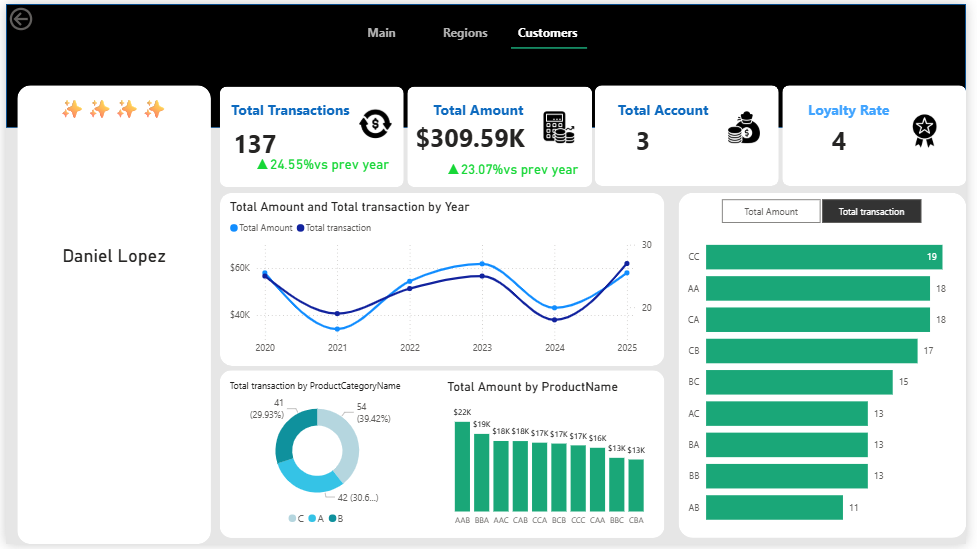

This screenshot's page, from the dashboard's own definition file:
{"tool":"powerbi","page":{"name":"Customers","canvas":[1280,720],"ordinal":2},"visuals":[{"type":"shape","box":[0,0,1280,165],"z":0},{"type":"shape","box":[534.5,109.6,246.7,134.2],"z":1000},{"type":"shape","box":[14.4,108.2,258.3,611.7],"z":2000},{"type":"shape","box":[285.2,109.6,245.3,134.2],"z":3000},{"type":"card","fields":{"Values":["Measure Table.total trnsaction"]},"box":[285.2,158.7,93.8,54.8],"z":4000},{"type":"textbox","box":[292.9,122.6,171.7,40.4],"z":5000},{"type":"image","box":[455.5,132.7,75,53.4],"z":6000},{"type":"card","fields":{"Values":["Measure Table.formatted tranYOY"]},"box":[314.1,194.8,216.4,39],"z":7000},{"type":"textbox","box":[537.4,122.5,186.6,41.7],"z":8000},{"type":"card","fields":{"Values":["Measure Table.total Amount"]},"box":[538.4,149.2,161.6,57.7],"z":9000},{"type":"image","box":[700,139.1,75,51.9],"z":10000},{"type":"card","fields":{"Values":["Measure Table.formatted AmoumtYOY"]},"box":[567.3,201.1,216.4,39],"z":11000},{"type":"shape","box":[785.2,108.2,245.3,134.2],"z":12000},{"type":"shape","box":[1034.5,108.2,245.3,134.2],"z":13000},{"type":"card","fields":{"Values":["Measure Table.total account"]},"box":[784.6,153.2,128.6,57.1],"z":14000},{"type":"textbox","box":[784.9,122.6,187.6,41.8],"z":15000},{"type":"image","box":[949.3,138.5,67.8,51.9],"z":16000},{"type":"actionButton","box":[0,0,100,40],"z":17000},{"type":"shape","box":[896,252.5,383.8,460.2],"z":18000},{"type":"shape","box":[285.7,252.5,593,230.8],"z":19000},{"type":"shape","box":[285.7,489.1,593,223.6],"z":20000},{"type":"lineChart","fields":{"Category":["calendar.Year"],"Y":["Measure Table.total Amount"],"Y2":["Measure Table.total trnsaction"]},"box":[292.9,259.7,572.8,216.4],"z":21000},{"type":"donutChart","fields":{"Category":["DimProductCategory.ProductCategoryName"],"Y":["Measure Table.total trnsaction"]},"box":[292.9,499.2,243.8,204.9],"z":22000},{"type":"columnChart","title":"Total Amount by ProductName","fields":{"Category":["Dimproduct.ProductName"],"Y":["Measure Table.total Amount"]},"box":[582.9,499.2,282.8,204.9],"z":23000},{"type":"barChart","fields":{"Y":["Measure Table.Total transaction"],"Category":["DimProductSubCategory.ProductSubCategoryName"]},"box":[901.4,291.4,372.9,418.6],"z":24000},{"type":"slicer","fields":{"Values":["Amount_ transaction .Amount_ transaction "]},"box":[928.6,252.9,315.7,45.7],"z":25000},{"type":"actionButton","box":[445.1,17.1,111.4,40],"z":26000},{"type":"actionButton","box":[556.6,17.1,111.4,40],"z":27000},{"type":"actionButton","box":[667,17,111.4,40],"z":28000},{"type":"shape","box":[672.9,50,101.4,17.1],"z":29000},{"type":"card","fields":{"Values":["Measure Table.rating selection"]},"box":[46.7,116.7,193.3,46.7],"z":30000},{"type":"card","fields":{"Values":["Measure Table.Fullname selection"]},"box":[31.4,312.5,225.6,47.1],"z":31000},{"type":"textbox","box":[1034.5,122.6,187.6,41.8],"z":32000},{"type":"card","fields":{"Values":["Measure Table.total rating gold"]},"box":[1046,152.9,128.4,57.7],"z":33000},{"type":"image","box":[1180.7,135.2,89.6,69.2],"z":34000},{"type":"cardVisual","fields":{"Data":["Measure Table.Total Amount"]},"box":[41.2,163.1,203.1,153.1],"z":35000}]}

Visuals, with their boxes in screenshot pixels (x1, y1, x2, y2), scaled from the page's 1280x720 canvas onto the 977x549 screenshot:
shape: region(0, 0, 976, 126)
shape: region(408, 84, 596, 186)
shape: region(11, 83, 208, 548)
shape: region(218, 84, 405, 186)
card - Measure Table.total trnsaction: region(218, 121, 289, 163)
textbox: region(224, 93, 355, 124)
image: region(348, 101, 405, 142)
card - Measure Table.formatted tranYOY: region(240, 149, 405, 178)
textbox: region(410, 93, 553, 125)
card - Measure Table.total Amount: region(411, 114, 534, 158)
image: region(534, 106, 592, 146)
card - Measure Table.formatted AmoumtYOY: region(433, 153, 598, 183)
shape: region(599, 83, 787, 185)
shape: region(790, 83, 976, 185)
card - Measure Table.total account: region(599, 117, 697, 160)
textbox: region(599, 93, 742, 125)
image: region(725, 106, 776, 145)
actionButton: region(0, 0, 76, 30)
shape: region(684, 193, 976, 543)
shape: region(218, 193, 671, 369)
shape: region(218, 373, 671, 543)
lineChart - calendar.Year x Measure Table.total Amount: region(224, 198, 661, 363)
donutChart - DimProductCategory.ProductCategoryName x Measure Table.total trnsaction: region(224, 381, 410, 537)
"Total Amount by ProductName" columnChart: region(445, 381, 661, 537)
barChart - Measure Table.Total transaction x DimProductSubCategory.ProductSubCategoryName: region(688, 222, 973, 541)
slicer - Amount_ transaction .Amount_ transaction : region(709, 193, 950, 228)
actionButton: region(340, 13, 425, 44)
actionButton: region(425, 13, 510, 44)
actionButton: region(509, 13, 594, 43)
shape: region(514, 38, 591, 51)
card - Measure Table.rating selection: region(36, 89, 183, 125)
card - Measure Table.Fullname selection: region(24, 238, 196, 274)
textbox: region(790, 93, 933, 125)
card - Measure Table.total rating gold: region(798, 117, 896, 161)
image: region(901, 103, 970, 156)
cardVisual - Measure Table.Total Amount: region(31, 124, 186, 241)
